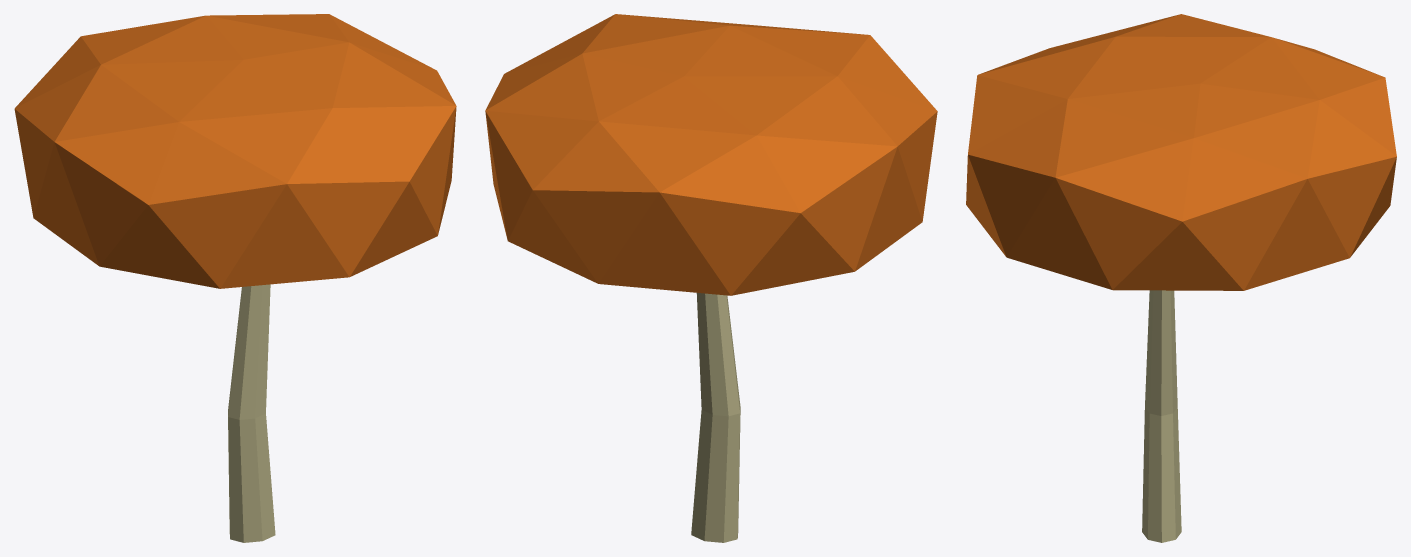
Rendered from flat_mushroom_orange.fbx.
3 views of the same model, side by side, from view 1: azimuth 30°, elevation 25°; view 2: azimuth 150°, elevation 25°; view 3: azimuth 270°, elevation 25° (orthographic). The views are drawn at different scales.
Parts seen in each view (by area): view 1: flat_mushroom_orange; view 2: flat_mushroom_orange; view 3: flat_mushroom_orange.
Part boxes in pixels (x1=…): flat_mushroom_orange: x1=14, y1=14, x2=456, y2=542; flat_mushroom_orange: x1=485, y1=14, x2=937, y2=542; flat_mushroom_orange: x1=966, y1=14, x2=1396, y2=542.
Bounding box in the file's own units: 60.92 × 69.49 × 59.83.
